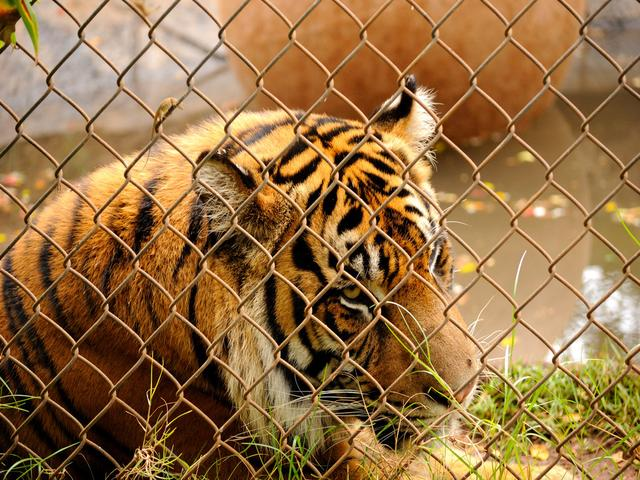tiger: (57, 79, 474, 423)
